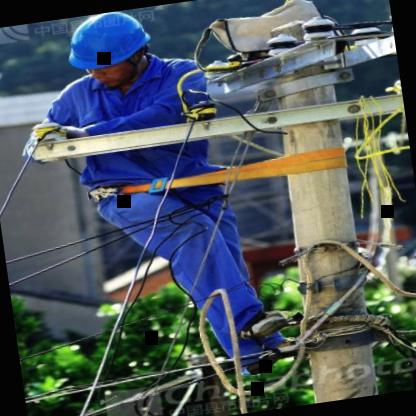helmet: (57, 6, 166, 94)
